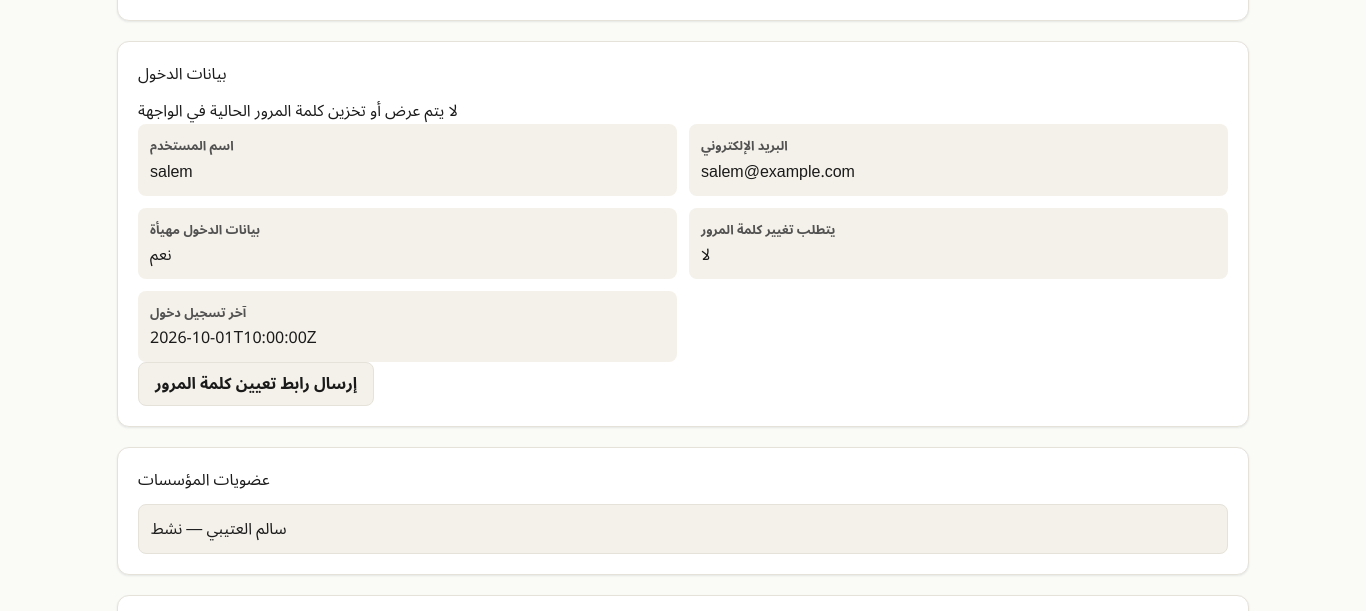
Scenario: Tenant User Detail › renders username and sends a governed set-password link without exposing credentials
This screenshot has width=1366, height=611.
(page scrolled)
What coordinates should you click on to do the following:
click the button "إرسال رابط تعيين كلمة المرور"
I would click on:
 (256, 384)
Its box is [138,362,374,406].
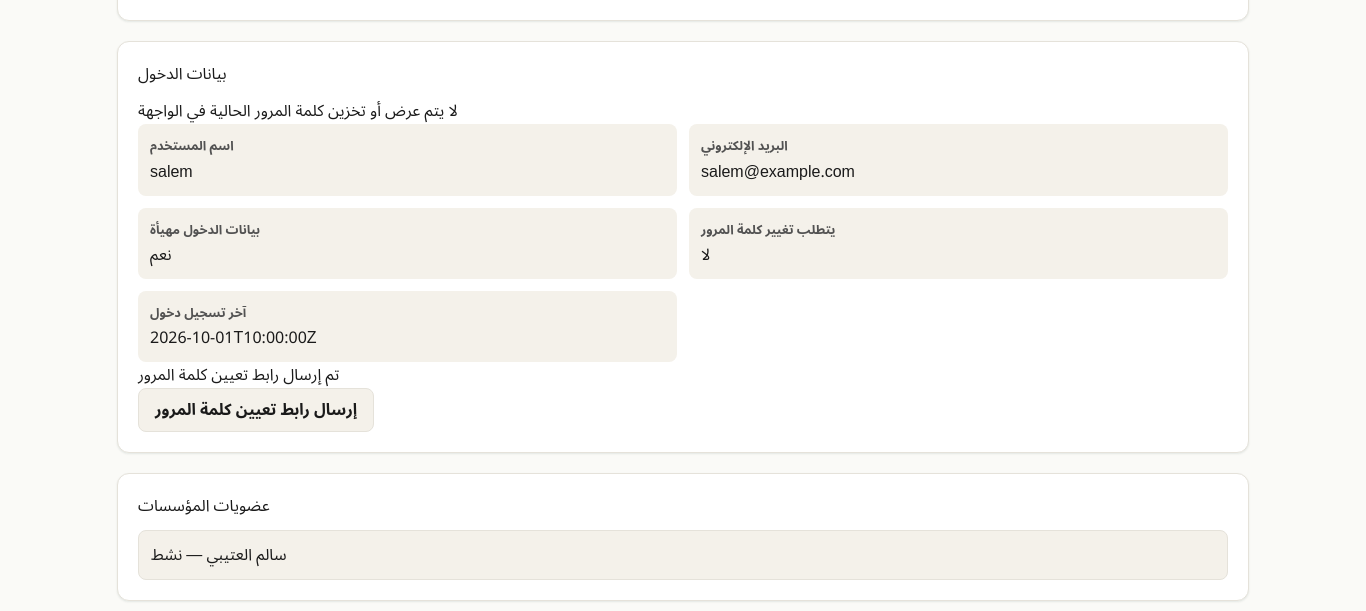
Expected: the message reads "تم إرسال رابط تعيين كلمة المرور", [138,358,339,392]
